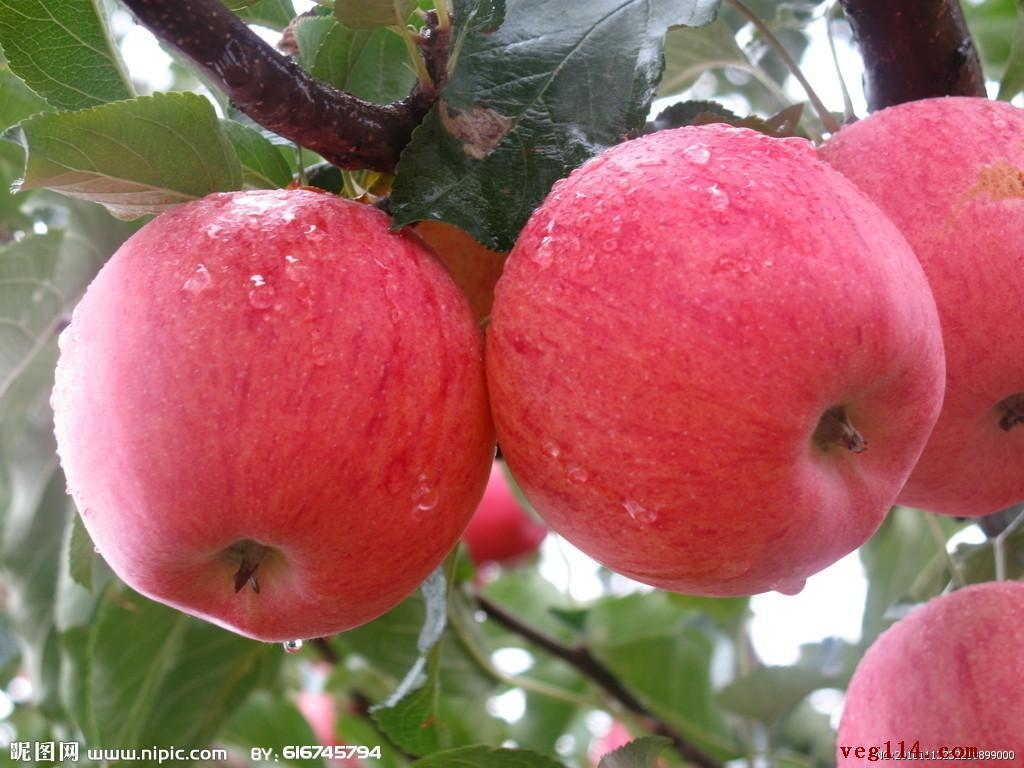apple: (478, 118, 967, 603), (51, 188, 504, 619), (804, 93, 1024, 535), (836, 579, 1023, 764)
